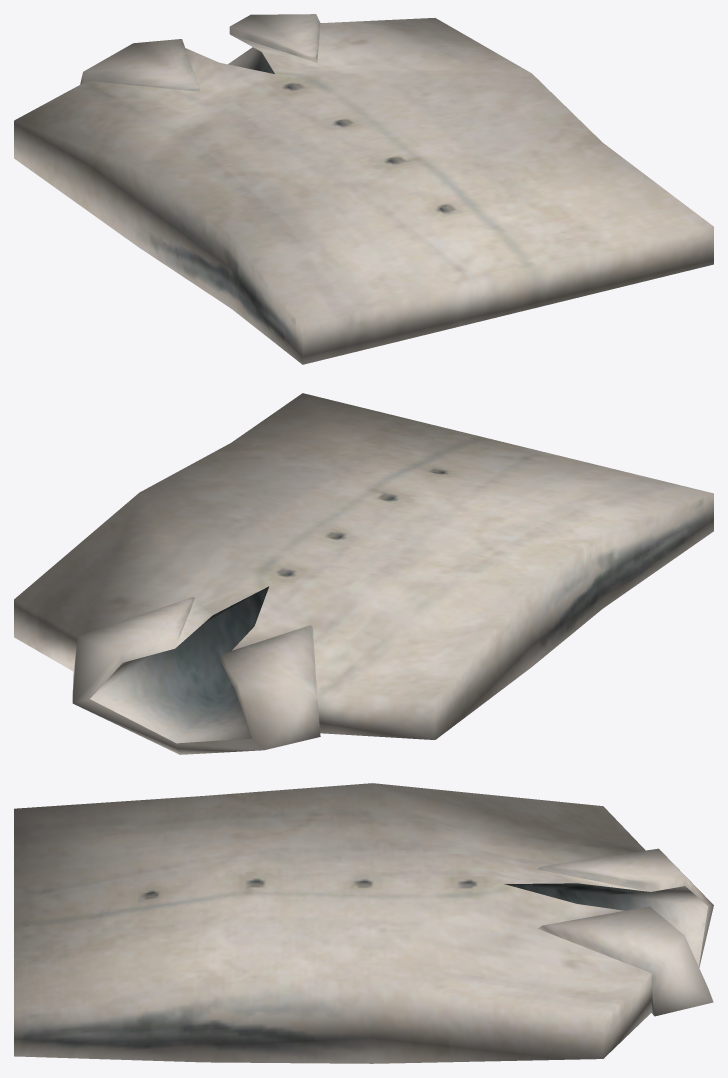
The model's file is shirt_folded_white.dae.
The picture shows the model from 3 angles, top to bottom: view 1: azimuth 30°, elevation 25°; view 2: azimuth 150°, elevation 25°; view 3: azimuth 270°, elevation 25°; orthographic projection. The views are drawn at different scales.
Visible parts, largest first — view 1: pCube2; view 2: pCube2; view 3: pCube2.
Boxes of the visible parts, <box> form: pCube2: <box>14,14,713,364</box>; pCube2: <box>14,393,713,754</box>; pCube2: <box>14,783,713,1063</box>.
Bounding box in the file's own units: 0.4899 × 0.1159 × 0.6786.
